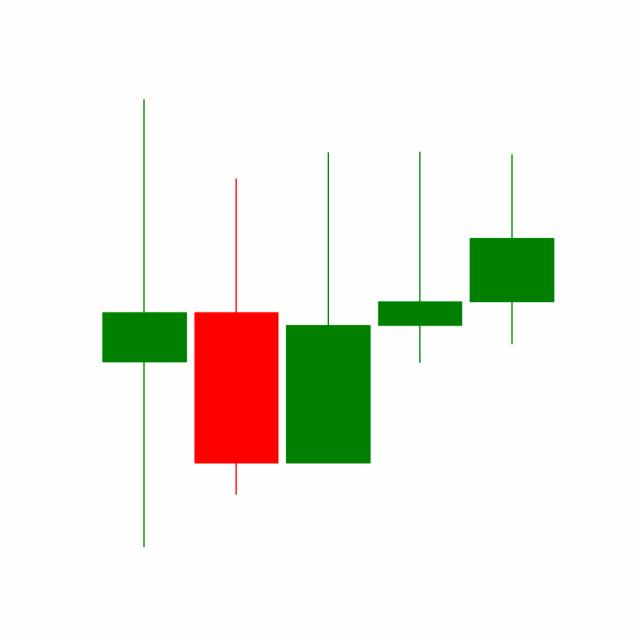Spinning Top: (373, 149, 467, 366)
